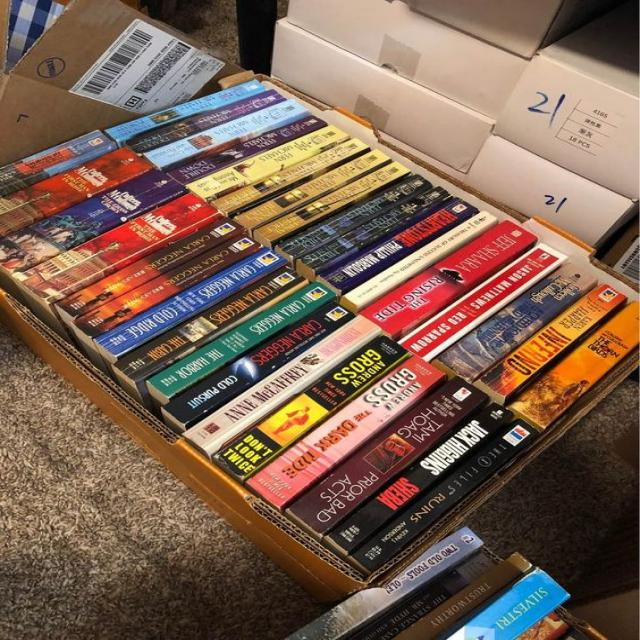book: (287, 377, 490, 536), (245, 355, 446, 508), (325, 402, 517, 554), (350, 419, 539, 573), (213, 336, 409, 478), (181, 315, 382, 453), (160, 301, 356, 425), (110, 266, 306, 382), (12, 192, 220, 300), (147, 281, 337, 398), (358, 220, 538, 340), (95, 247, 287, 356), (398, 243, 570, 364), (70, 232, 266, 338), (436, 260, 601, 382), (54, 218, 245, 319), (0, 170, 188, 272), (509, 300, 640, 430), (479, 284, 627, 396), (341, 211, 500, 306), (319, 197, 478, 291), (0, 147, 154, 236), (276, 174, 434, 256), (297, 186, 452, 269), (233, 149, 392, 229), (253, 161, 410, 241), (185, 126, 351, 199), (213, 139, 368, 213), (144, 100, 306, 169), (166, 115, 327, 184), (124, 89, 286, 154), (106, 80, 269, 141), (0, 131, 118, 195)
